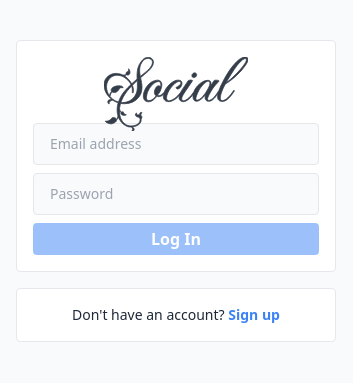
it: given non-existent email, error is displayed on button click
Type "wrongemail@email.com" into the field named "enter your email address".
click(176, 144); type("wrongemail@email.com")  # box [33, 123, 319, 165]
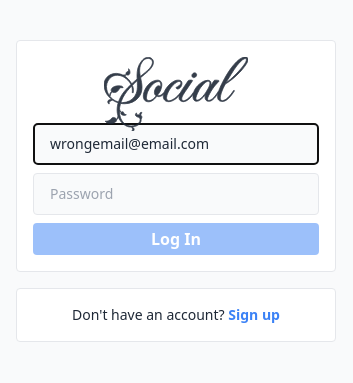
Type "password" into the password field named "enter your password".
click(176, 194); type("password")  # box [33, 173, 319, 215]
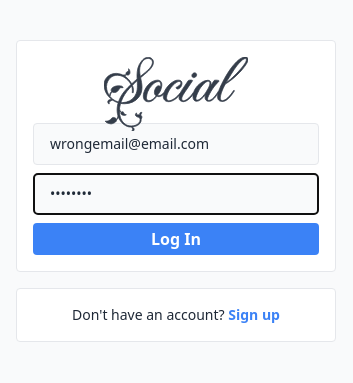
Click the button with aria-label "sign in".
click(176, 239)  # box [33, 223, 319, 255]
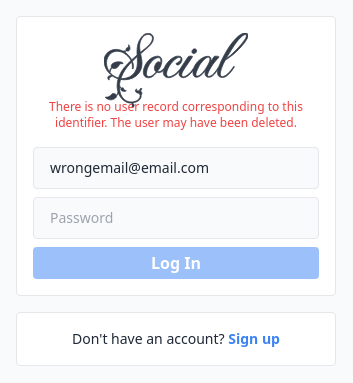
Expected: the message named "error message" shows "There is no user record corresponding to this identifier. The user may have been deleted.", [49, 98, 303, 131]
